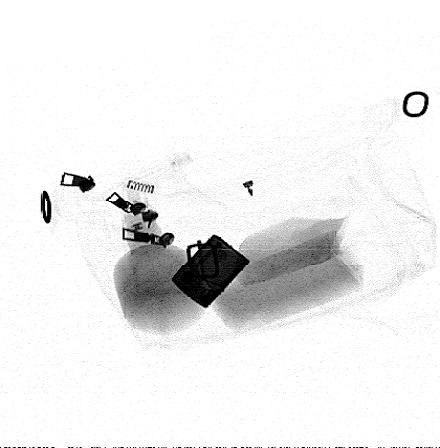Lighter: (170, 233, 251, 309)
